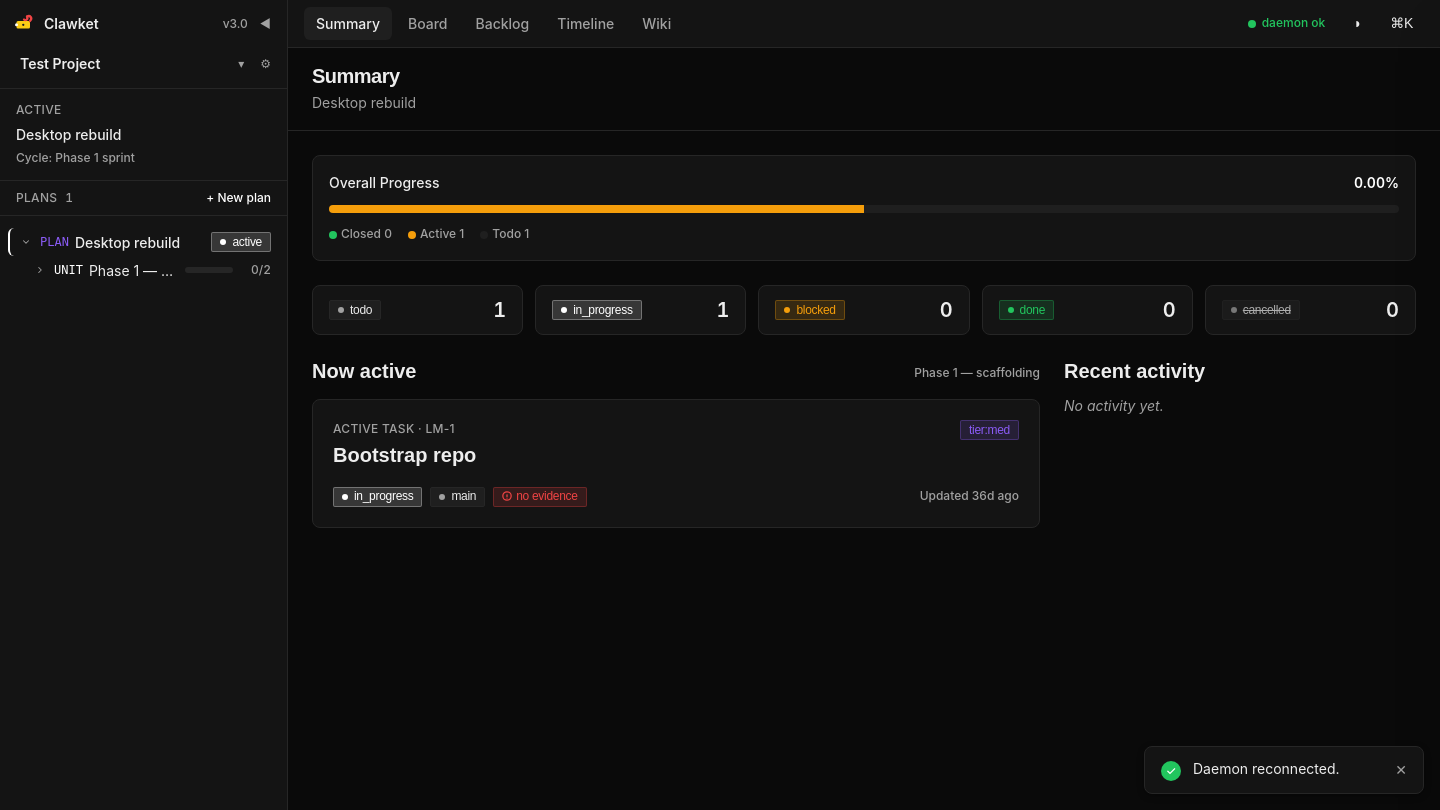
Test: Command palette → selection (B1) › clicking a Plan row selects the plan
Expected: the button with test id "daemon-health" is shown, [1240, 10, 1333, 37]
Step 1. Click the button with test id "open-command-palette" → (1402, 24), box [1379, 10, 1424, 38]
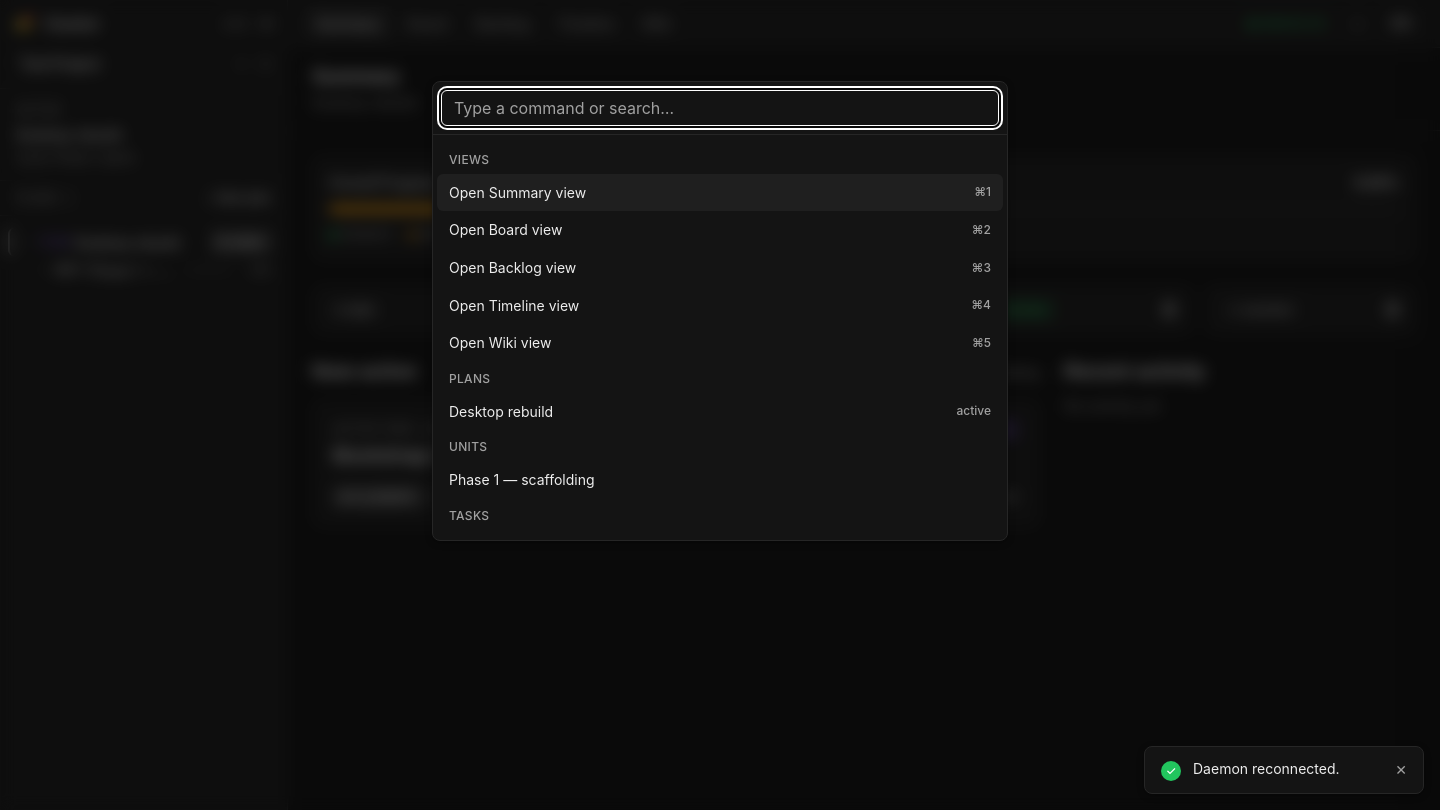
Step 2. Click the text "Desktop rebuild" → (501, 411), box [449, 403, 553, 420]
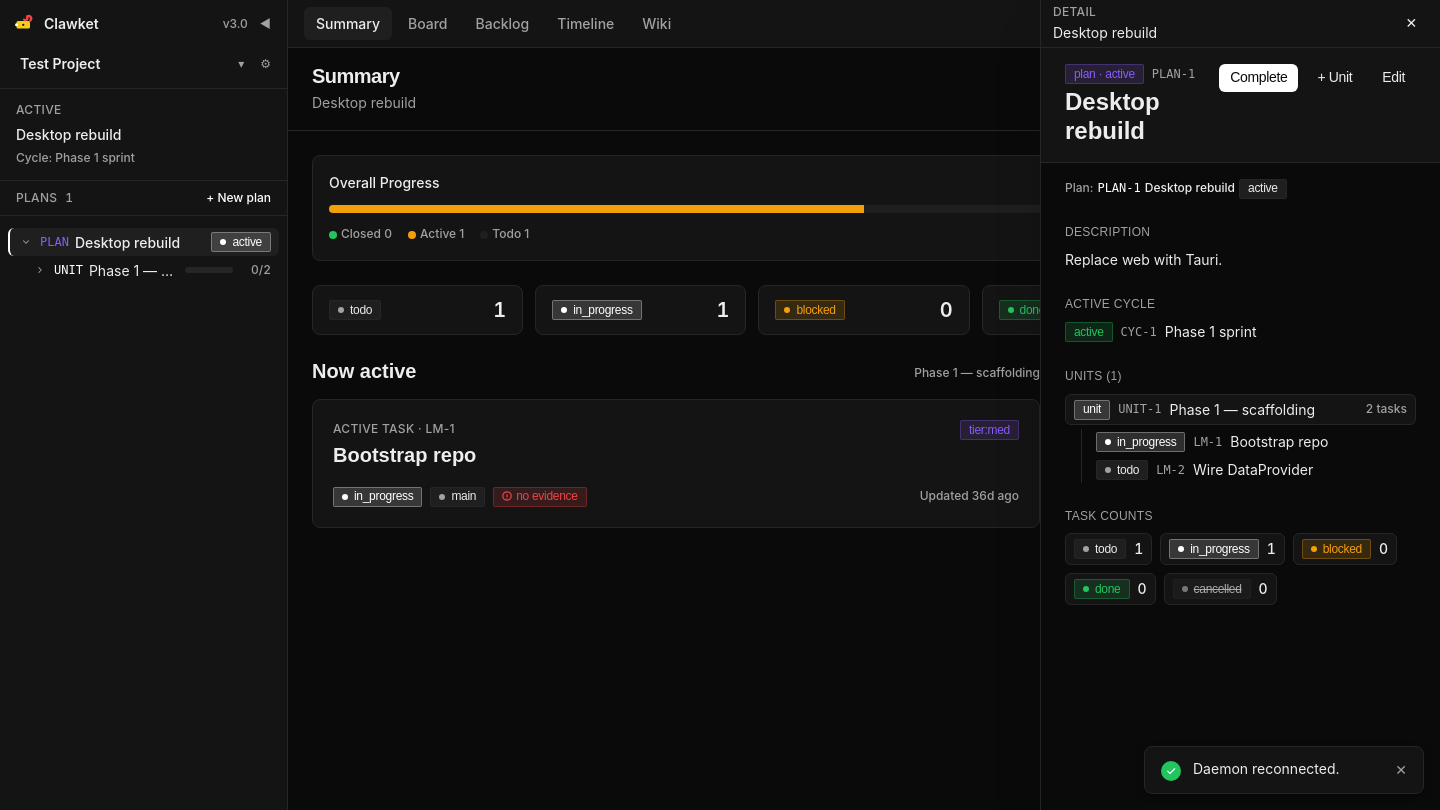
Expected: the dialog is gone
